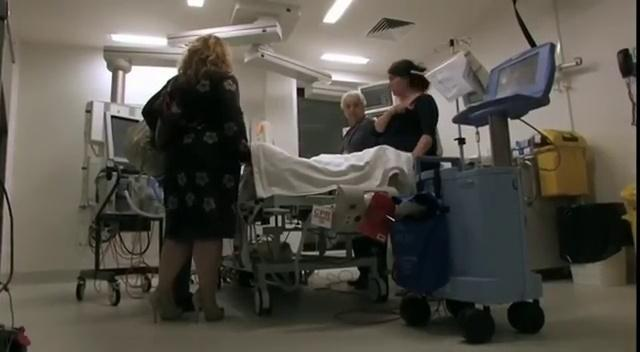others: (139, 33, 252, 323), (376, 54, 446, 159), (335, 90, 381, 154)
